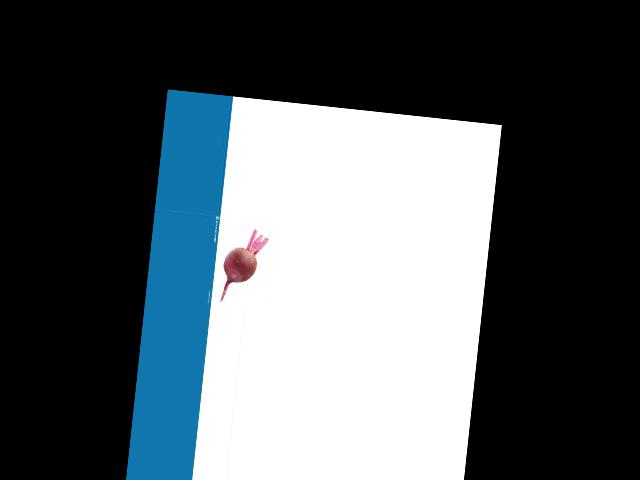beet: (220, 227, 269, 305)
